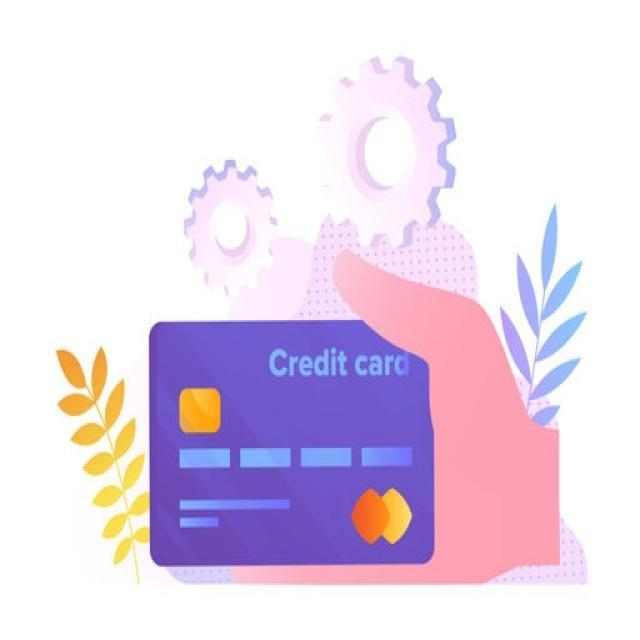payment_card: (147, 318, 437, 569)
